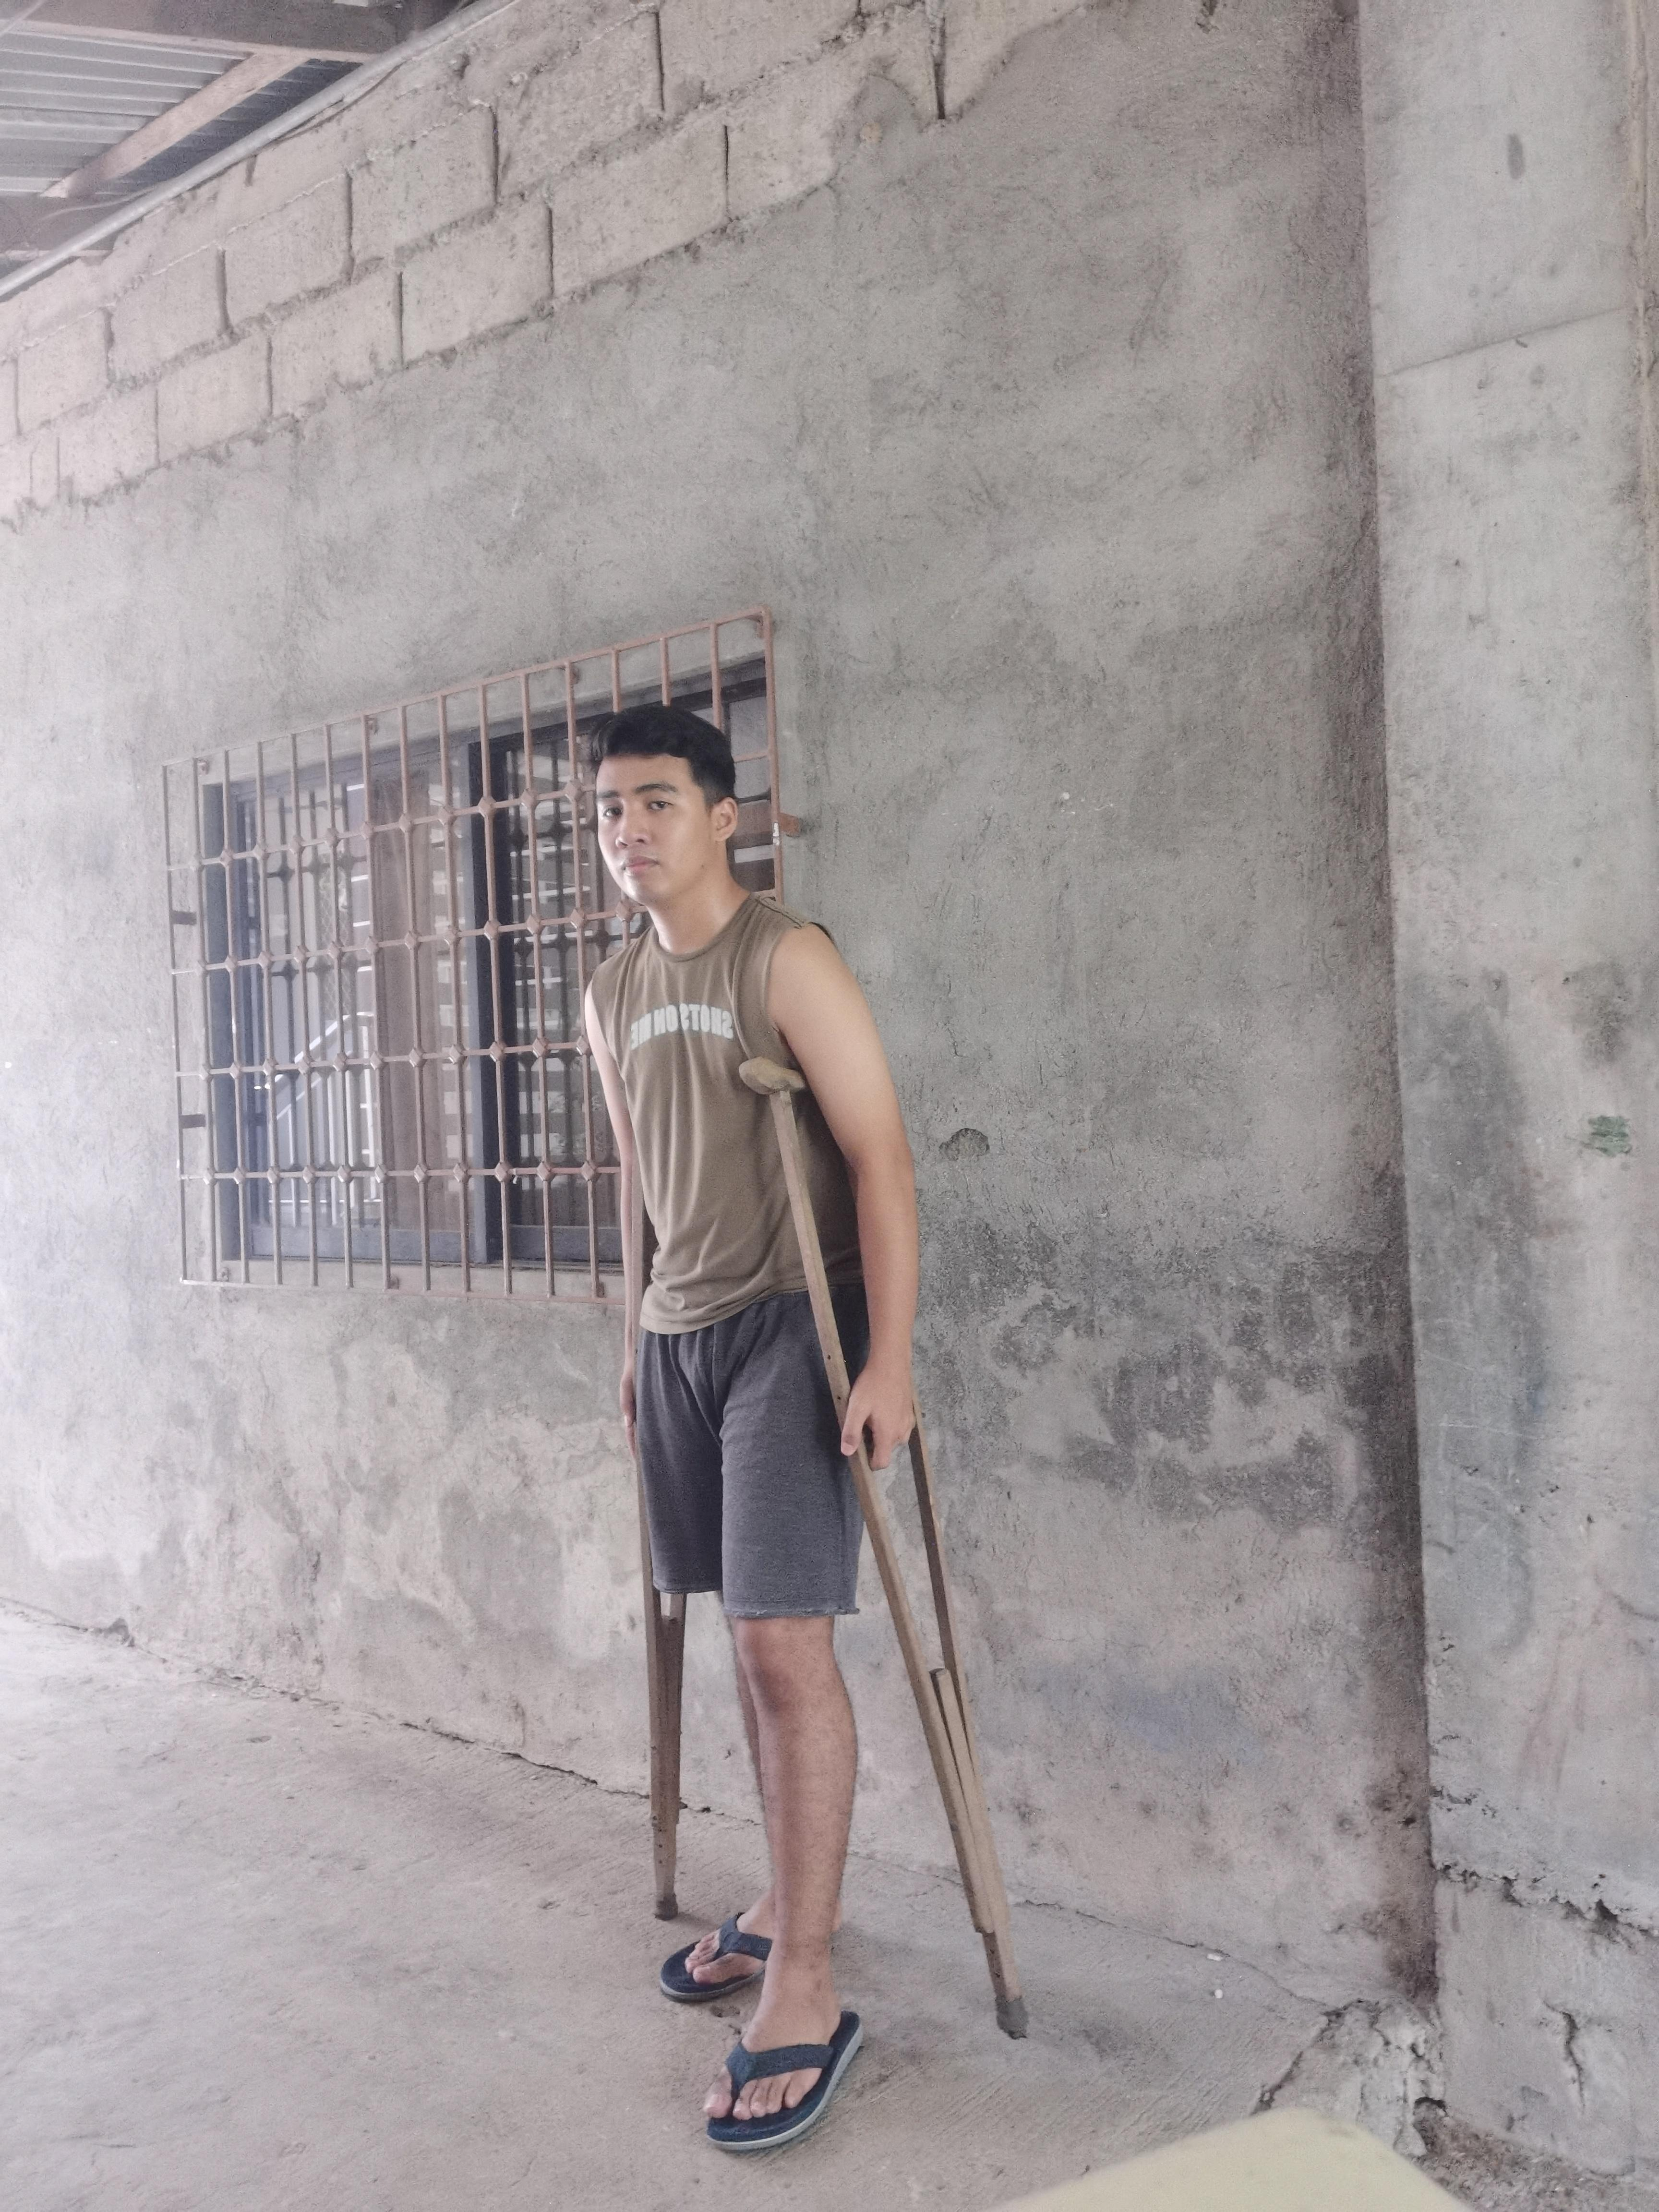crutches: (552, 691, 1063, 2161)
